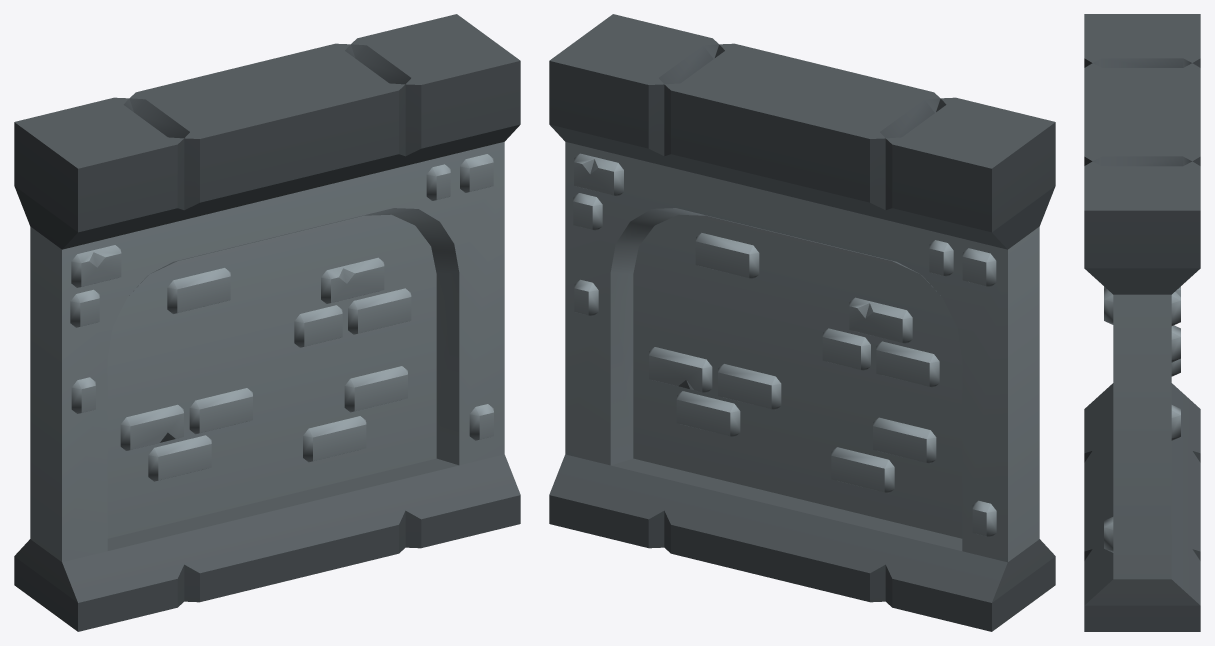
File: dungeon-wall-arched.glb
3 renders of one model, left to right at view 1: azimuth 30°, elevation 25°; view 2: azimuth 150°, elevation 25°; view 3: azimuth 270°, elevation 25°, orthographic. The views are drawn at different scales.
Visible parts, largest first — view 1: dungeon-wall-arched; view 2: dungeon-wall-arched; view 3: dungeon-wall-arched.
Boxes of the visible parts, x1,y1,x2,y2 form: dungeon-wall-arched: (14, 14, 520, 631); dungeon-wall-arched: (549, 14, 1055, 631); dungeon-wall-arched: (1084, 14, 1200, 631).
Size of the model in its own units: 3 by 3 by 0.7501.
1 material, 1 textured.
